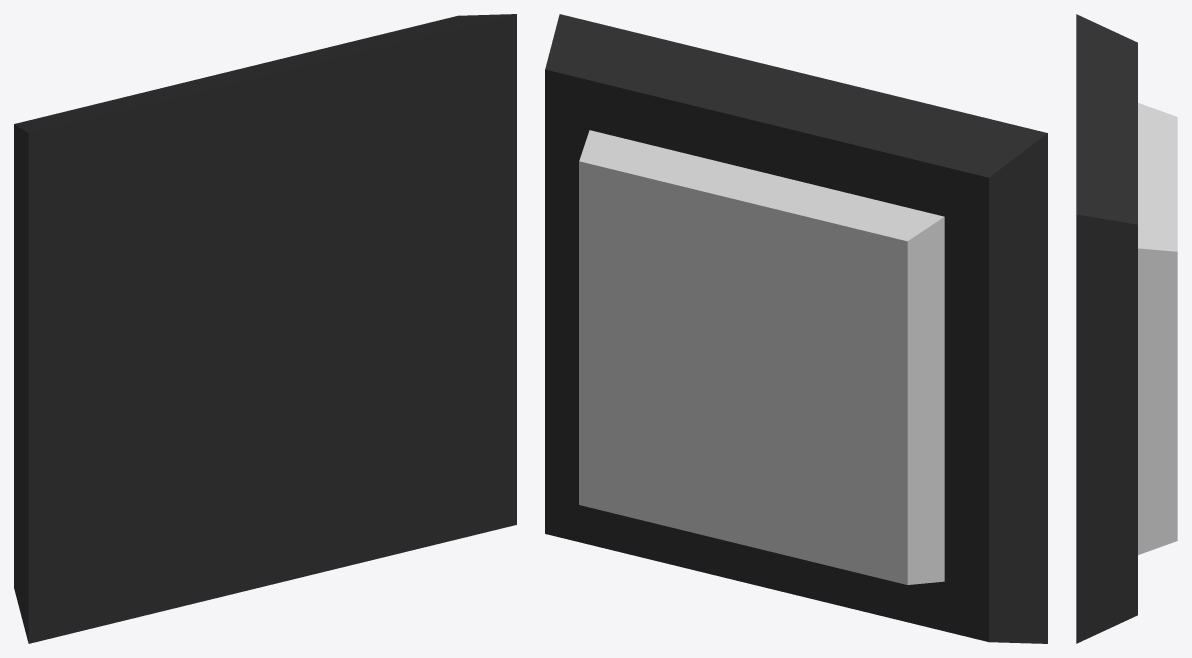
The model's file is LightSwitcher.fbx.
3 views of the same model, side by side, from view 1: azimuth 30°, elevation 25°; view 2: azimuth 150°, elevation 25°; view 3: azimuth 270°, elevation 25° (orthographic). The views are drawn at different scales.
Visible parts, largest first — view 1: LightSwitcherBody; view 2: LightSwitcher, LightSwitcherBody; view 3: LightSwitcherBody, LightSwitcher.
Boxes of the visible parts, box(x1,y1,x2,y2) form: LightSwitcherBody: box(14, 14, 516, 643); LightSwitcher: box(579, 130, 944, 584); LightSwitcherBody: box(545, 14, 1047, 643); LightSwitcherBody: box(1076, 14, 1137, 643); LightSwitcher: box(1138, 103, 1177, 554).
Size of the model in its own units: 16.5 by 16.5 by 3.53.
